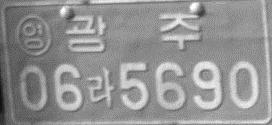0: (228, 59, 259, 110), (18, 63, 48, 112)
5: (118, 61, 149, 111)
6: (154, 61, 185, 111), (53, 63, 83, 112)
9: (191, 60, 223, 111)
광주_D: (65, 13, 201, 53)
라: (86, 67, 114, 108)
영: (15, 14, 52, 56)
